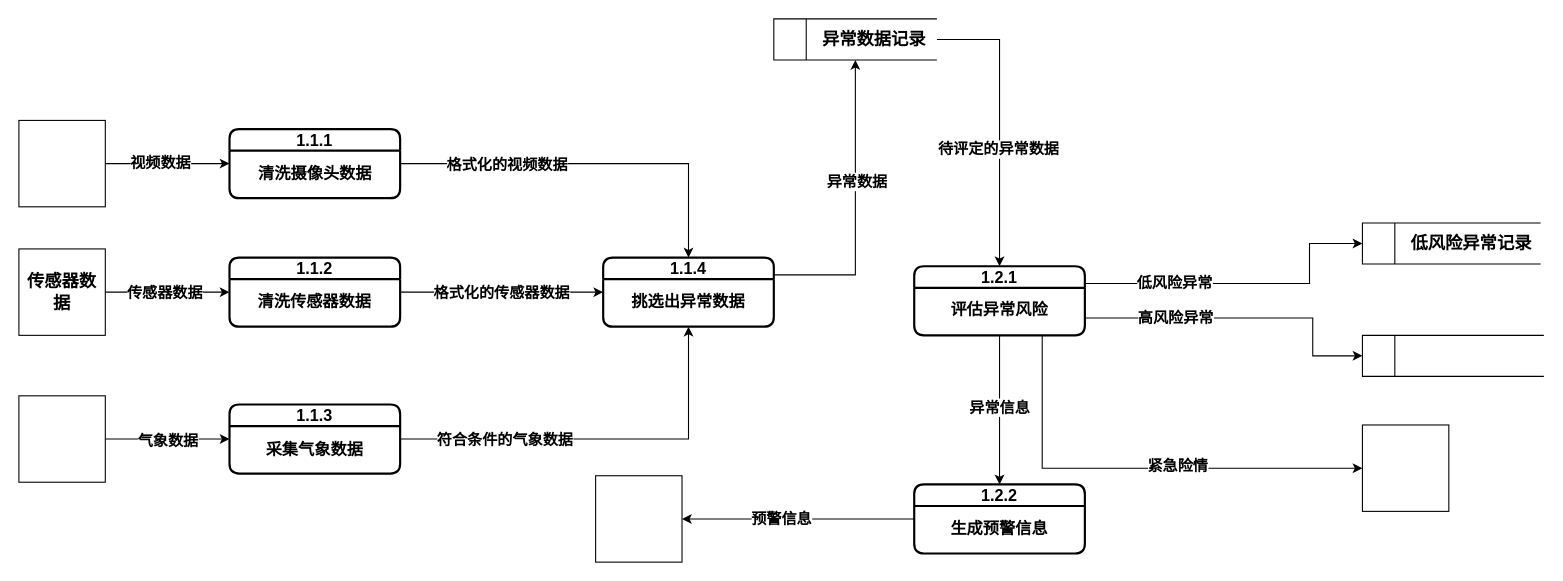
The diagram is 1563 pixels wide and 581 high, and some of its shapes have lost their labels. The box of each missing label's shape, as (x1, y1, x2, y2) in pixels:
应急响应模块: (1361, 424, 1449, 511)
气象服务系统: (18, 395, 105, 482)
监控摄像头: (18, 119, 105, 207)
铁路管理局: (595, 475, 682, 562)
高风险异常记录: (1361, 334, 1544, 376)
